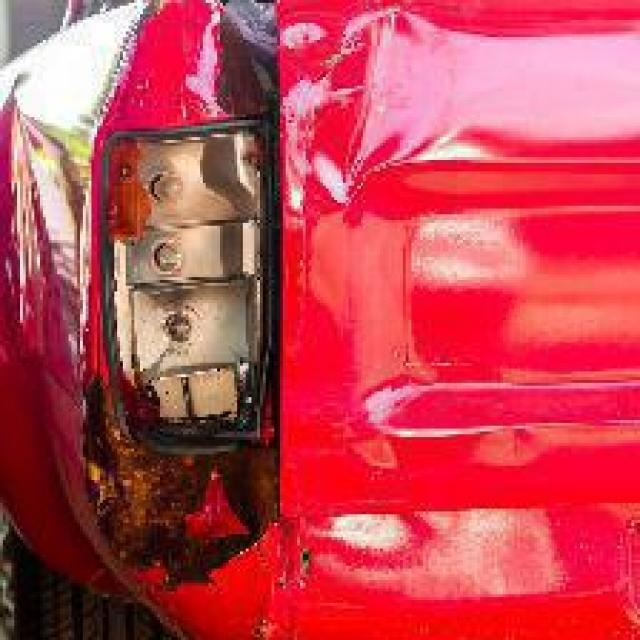damaged: (77, 2, 283, 614), (308, 5, 463, 208)
